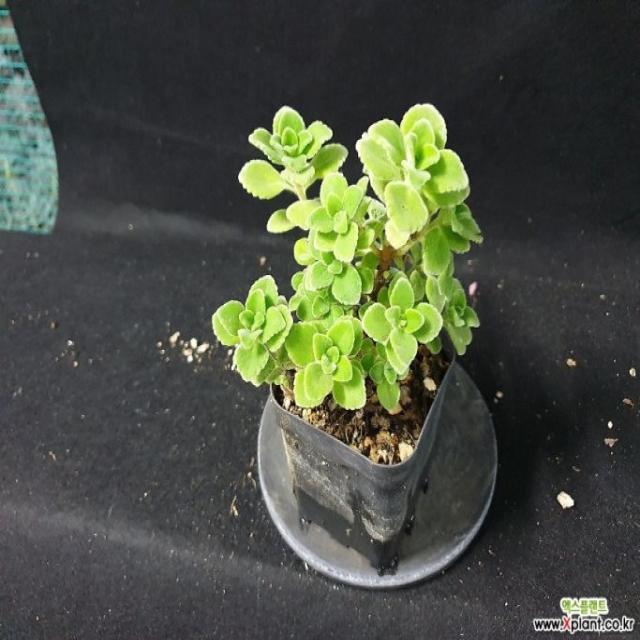Vicks: (356, 107, 469, 249), (239, 107, 346, 200), (212, 275, 292, 384), (362, 277, 442, 376), (285, 173, 369, 264), (285, 317, 366, 409), (444, 278, 479, 353)
